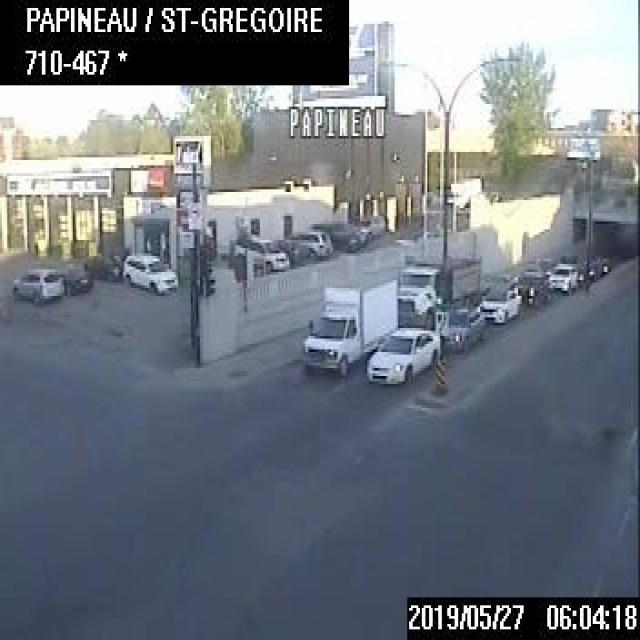vehicle: (300, 274, 399, 376), (396, 250, 481, 318), (366, 321, 441, 383), (121, 247, 180, 294), (230, 231, 290, 274), (12, 264, 63, 304), (478, 282, 522, 326), (447, 304, 484, 350), (285, 226, 334, 258), (52, 260, 93, 296), (312, 219, 359, 249), (511, 266, 547, 303), (85, 250, 123, 283), (547, 260, 578, 294), (586, 253, 608, 280)
